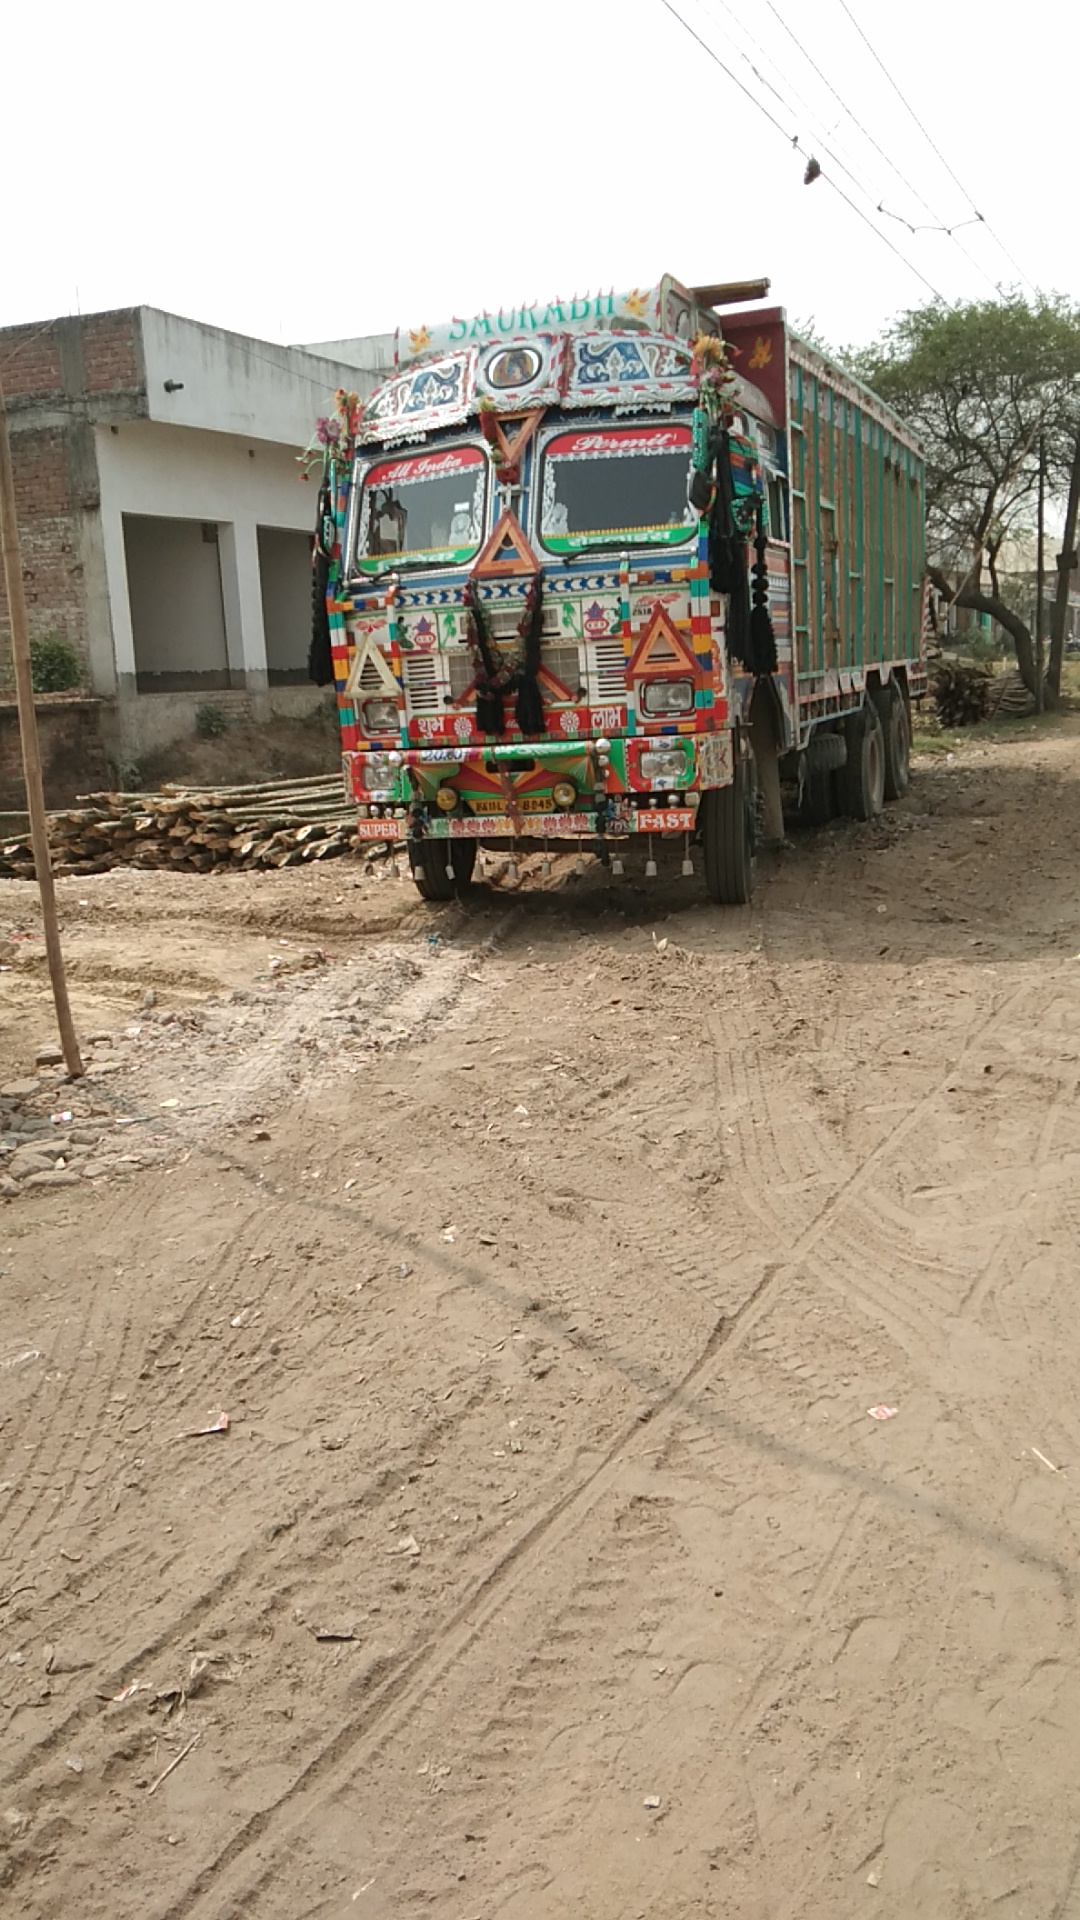truck: (305, 272, 931, 910)
